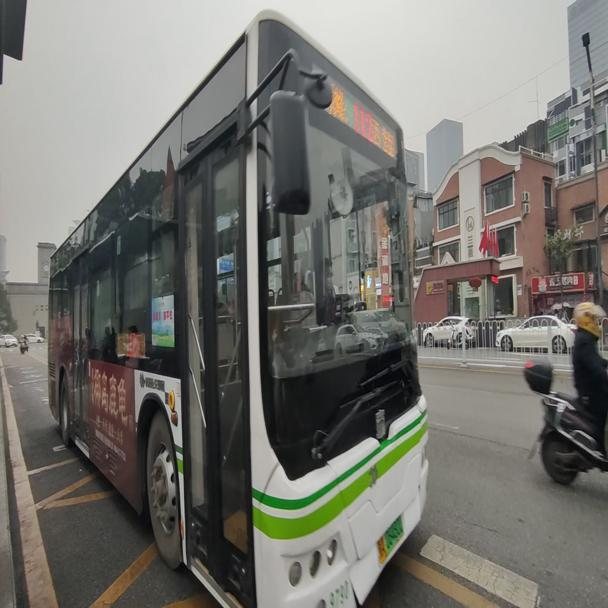bus: (45, 2, 429, 605)
screen: (350, 94, 373, 145)
